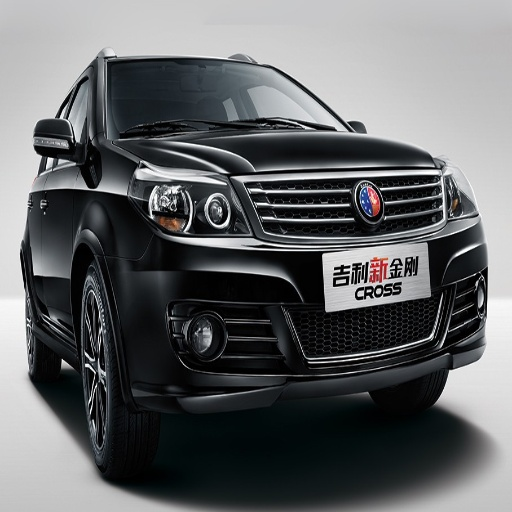front_bumper: (117, 173, 483, 397)
front_right_door: (40, 71, 96, 322)
front_right_light: (133, 174, 233, 237)
